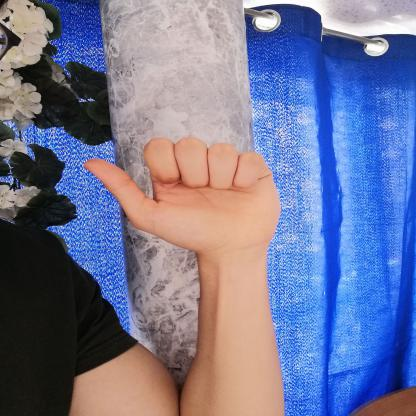DAD: (69, 126, 295, 264)
